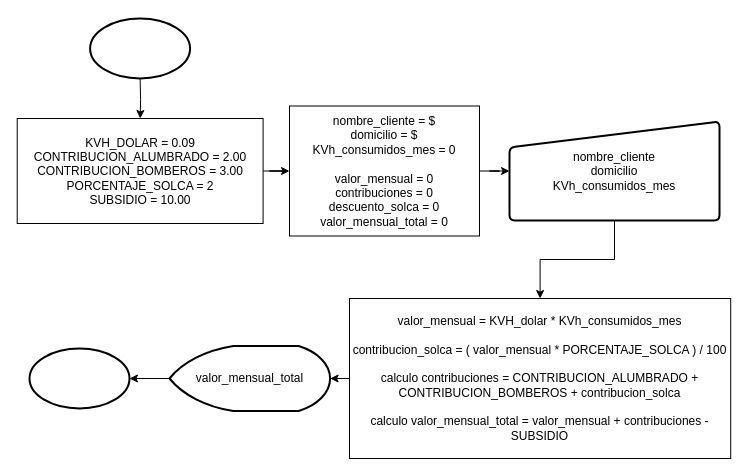
The diagram is 749 pixels wide and 476 high, and some of its shapes have lost their labels. The centre of each missing label's shape, as x and y in pixels:
FIN: (x=79, y=378)
INICIO: (x=140, y=48)
